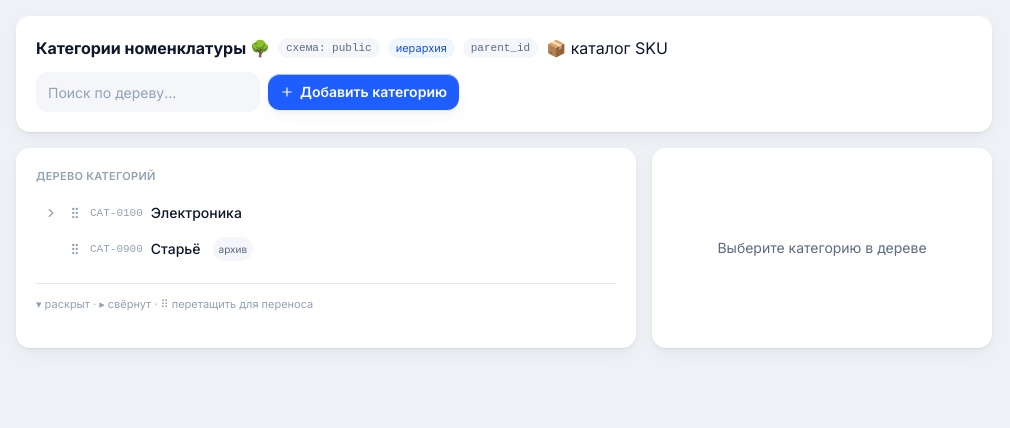
SpravCategories › не удалось добавить группу — показывает ошибку и не закрывает форму
Click the button "Добавить категорию". click: (364, 92)
box: [268,74,459,110]
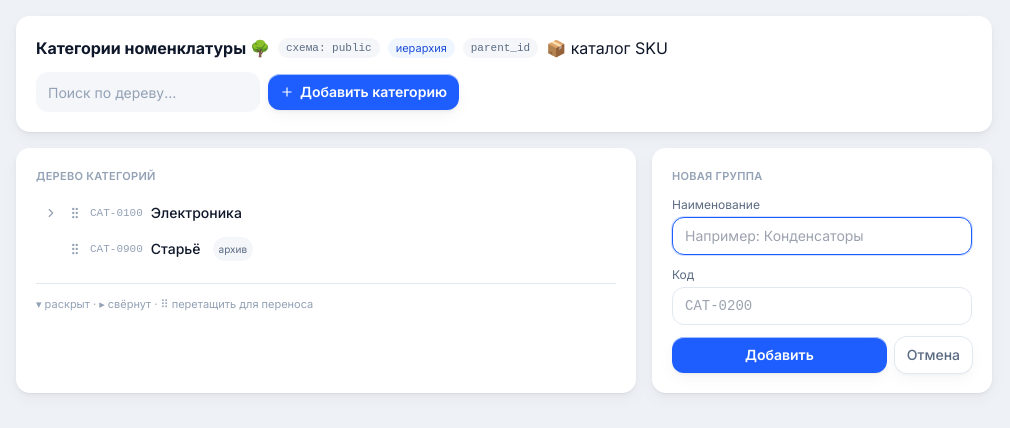
Type "Резисторы" into the field with placeholder "Например: Конденсаторы". click: (822, 236)
box: [672,216,972,254]
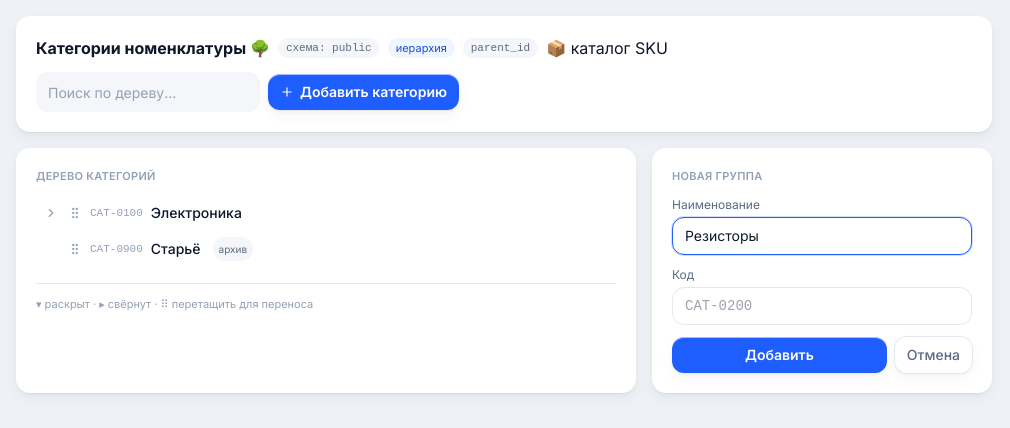
Type "CAT-0500" into the field with placeholder "CAT-0200". click: (822, 306)
box: [672,286,972,324]
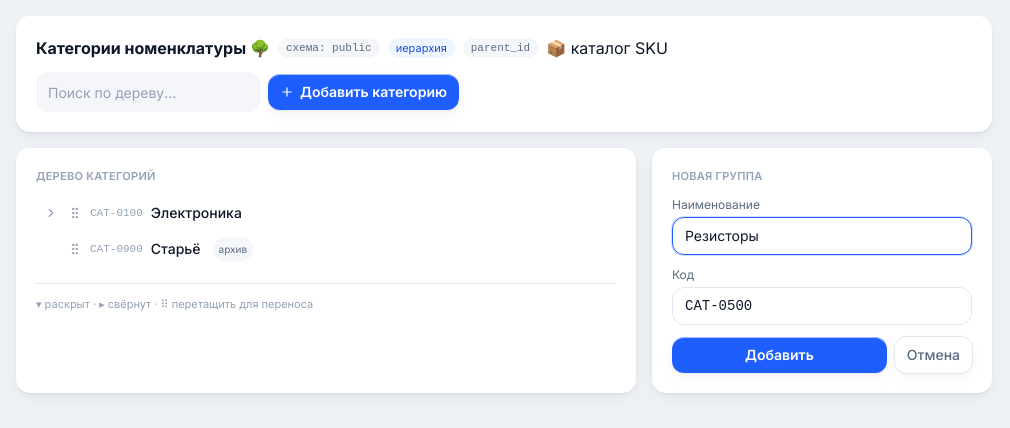
Click the button "Добавить". click: (779, 354)
box: [672,336,887,372]
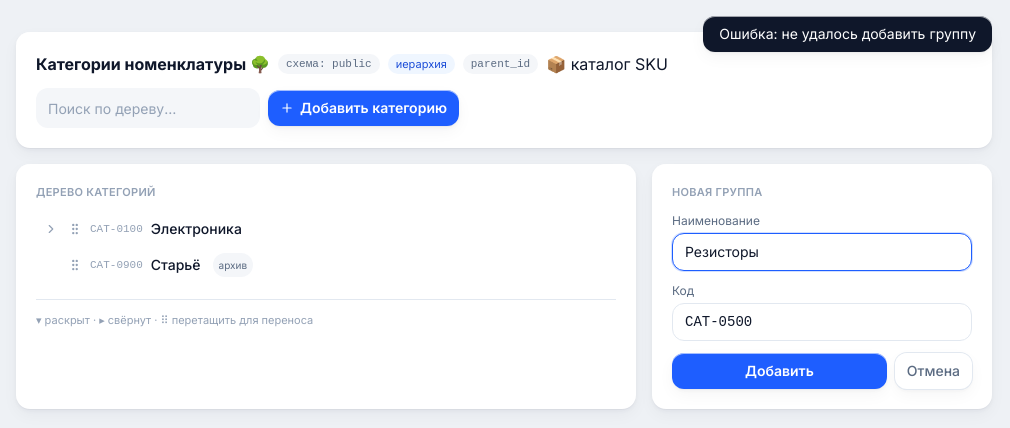
Result: the text "Наименование" is shown at [672,212,760,228]
Result: the text "Ошибка: не удалось добавить группу" is shown at [703,16,992,52]
